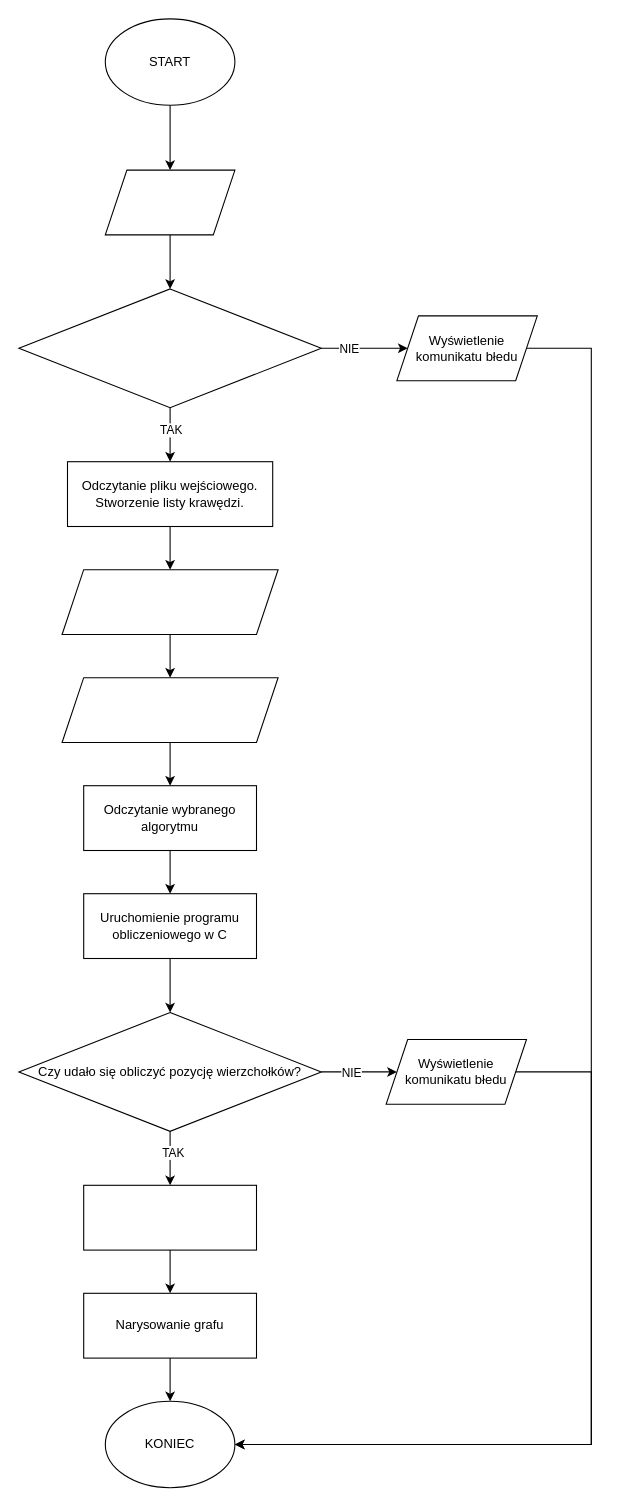
Some shapes in this 619 by 1507 pixel diagram are drawn without their labels. Each missing label, with the centre of its shape:
Czy udało się odczytać plik wejściowy: (x=169, y=348)
Kliknięcie przycisku "Rysuj": (x=169, y=709)
Odczytanie pliku wyjściowego programu wizualizacji w C: (x=169, y=1217)
Użytkownik wybiera plik wejściowy: (x=169, y=202)
Wybór algorytmu: (x=169, y=601)
